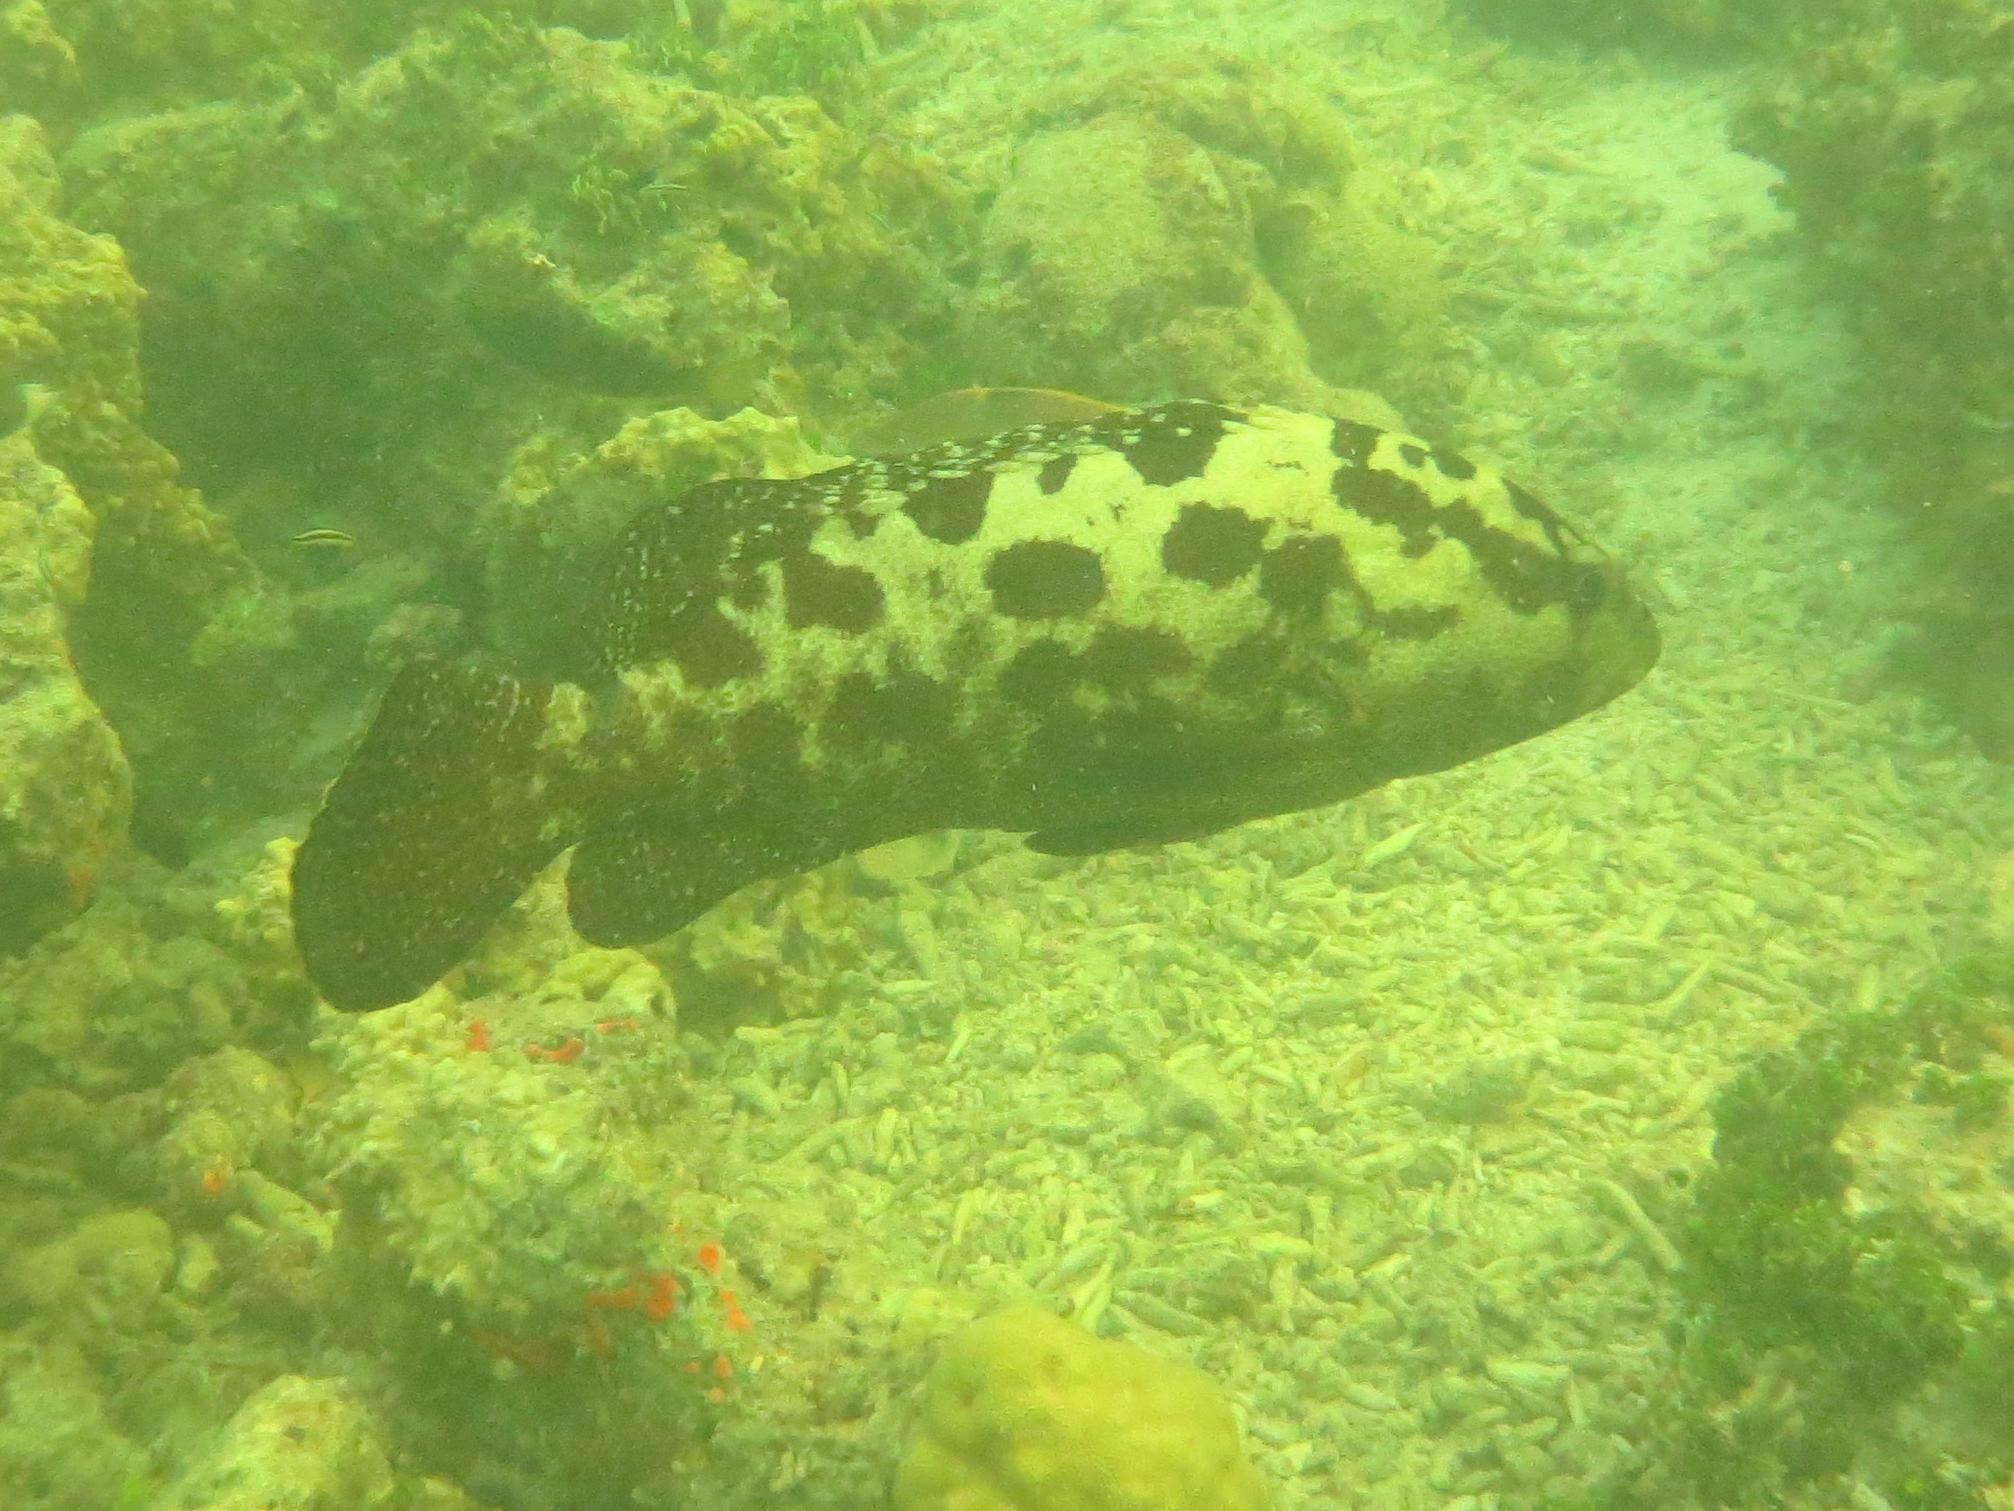Fish: (251, 305, 1746, 1116)
